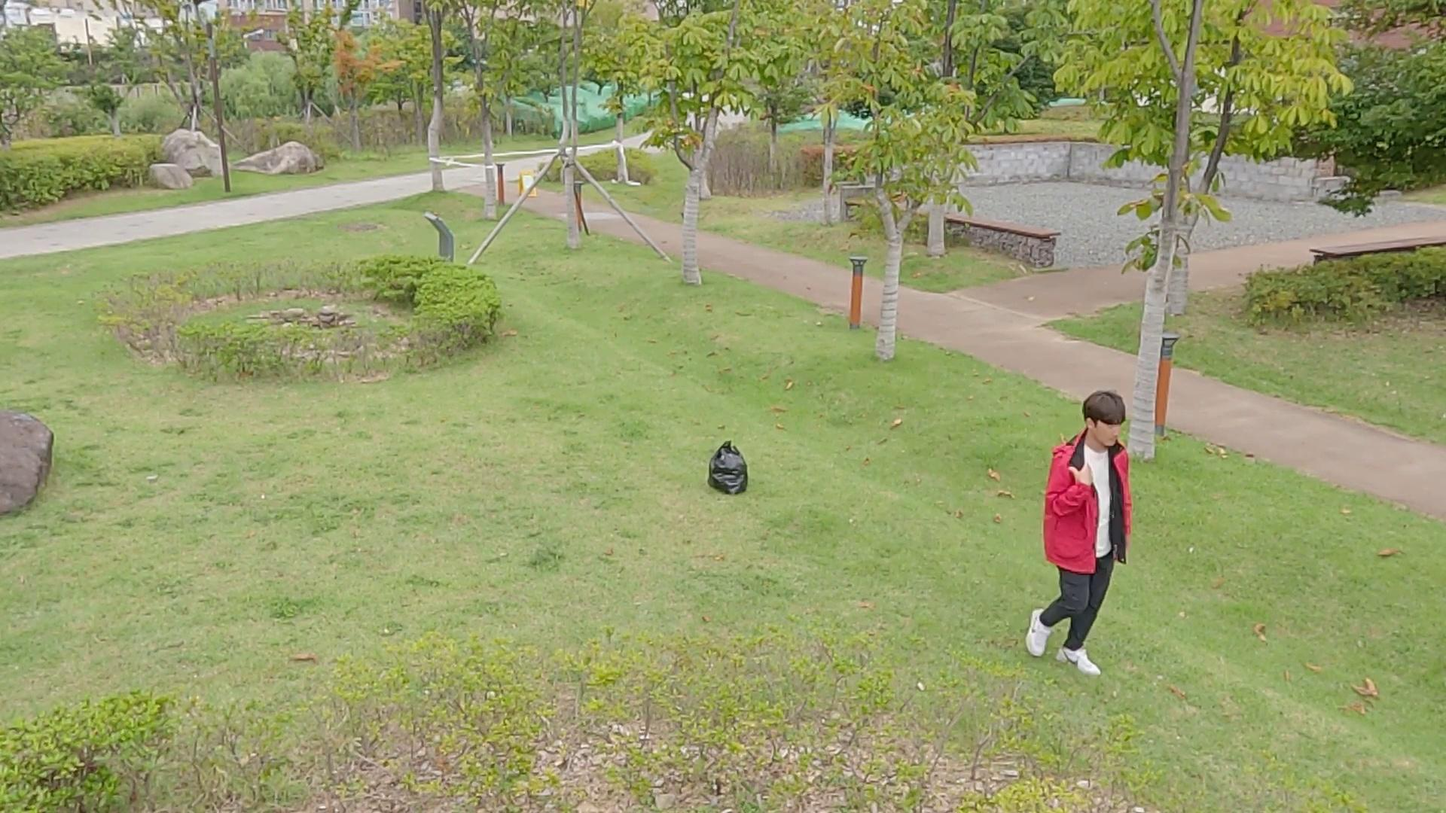person: (1027, 389, 1134, 679)
trash: (708, 439, 748, 495)
